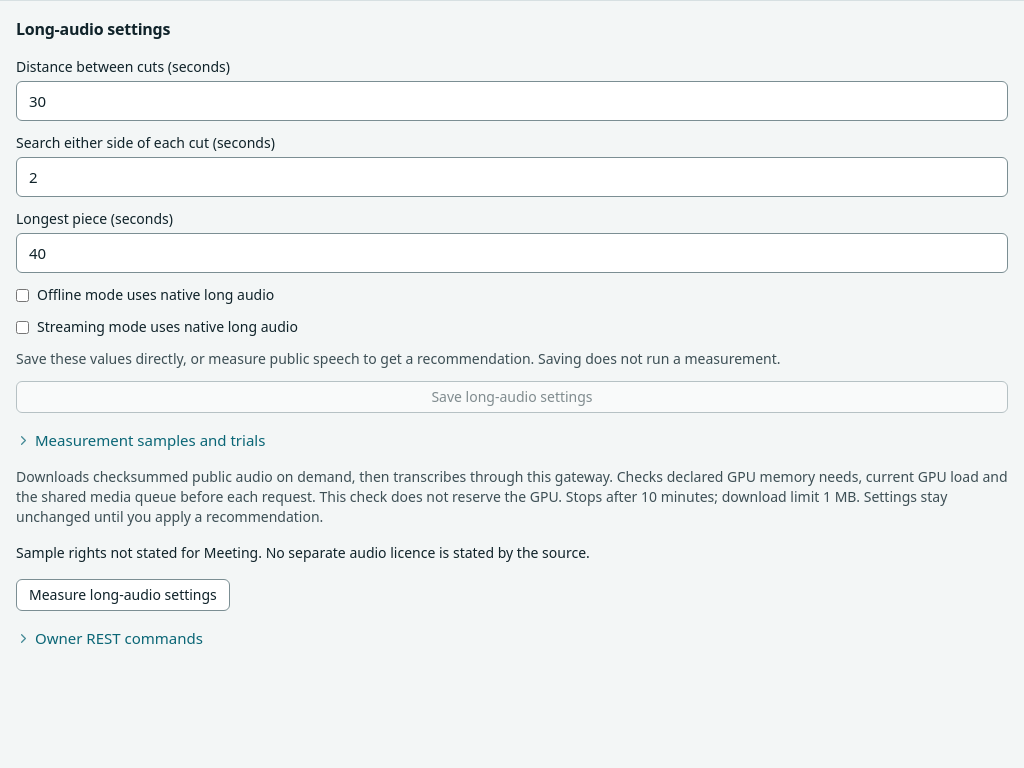
Scenario: Long-audio operator controls › accepts a hard maximum equal to target and validates search width against half the target
Clear the number field labelled "Longest piece (seconds)": (512, 253) [16,233,1008,273]
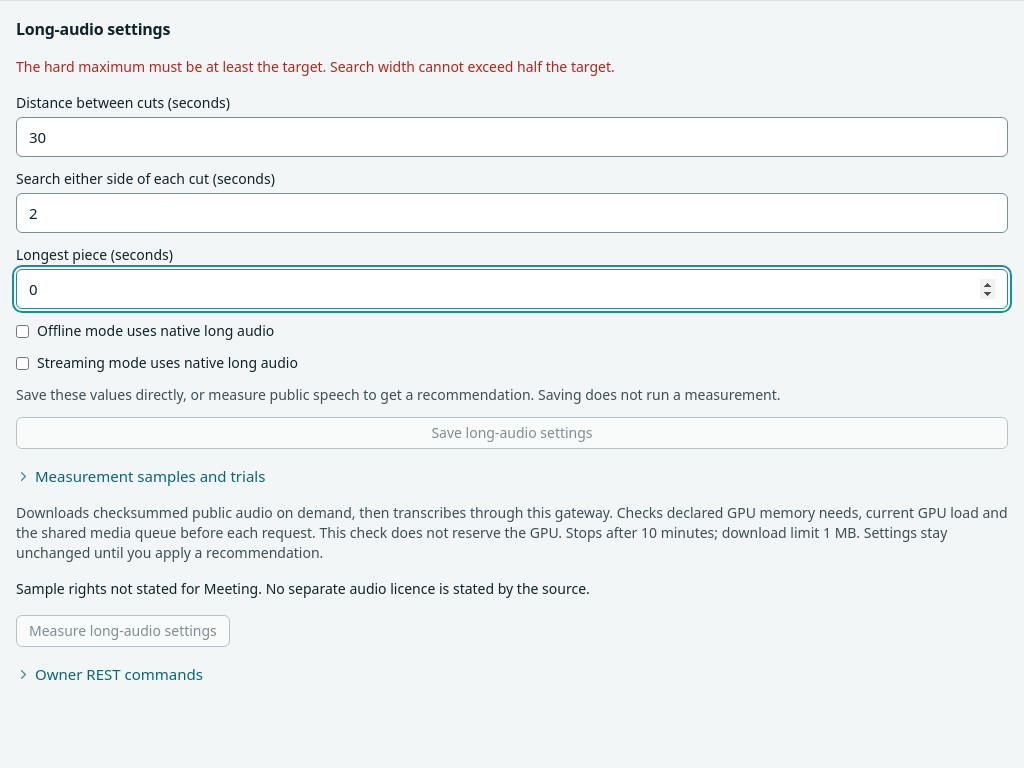
In the number field labelled "Longest piece (seconds)": (512, 289) [16,269,1008,309], type "30"
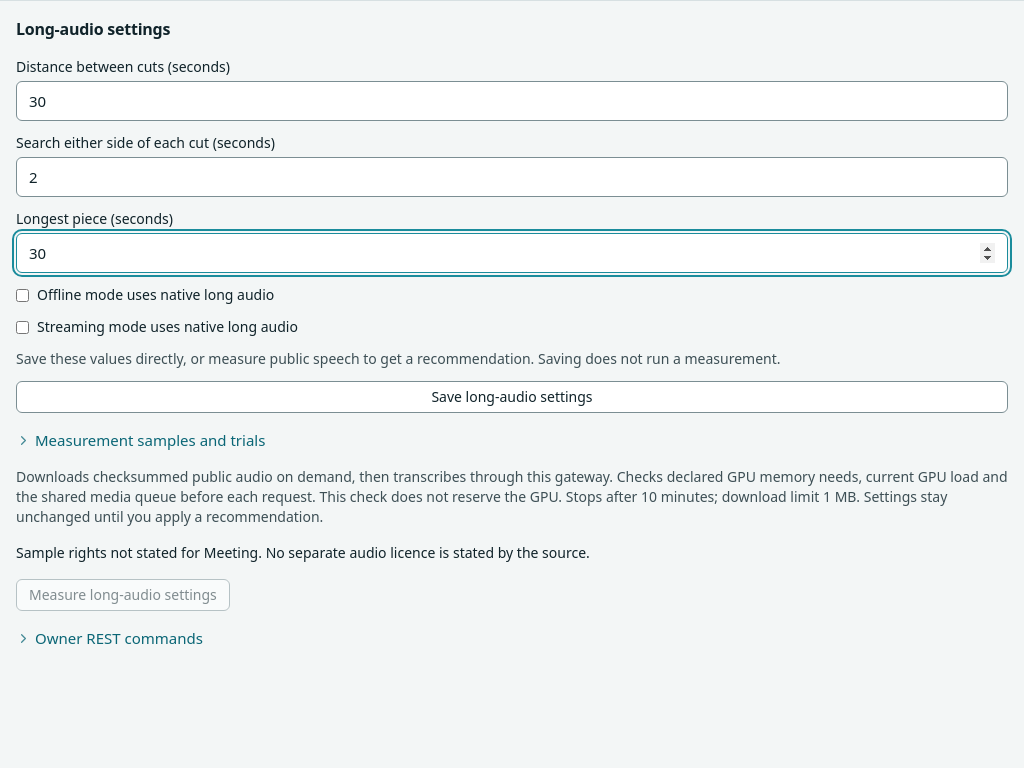
Check: the button "Save long-audio settings" is enabled, box [16,381,1008,413]
Replace the text in the number field labelled "Search either side of each cut (seconds)" with "16": (512, 177) [16,157,1008,197]
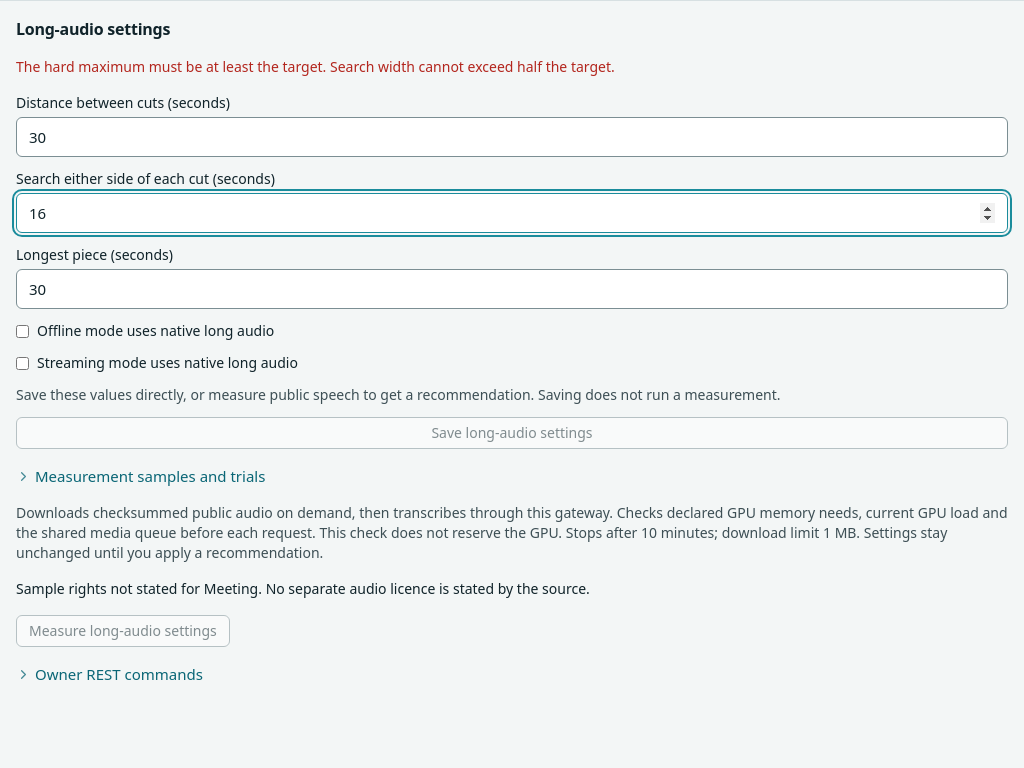
Check: the button "Save long-audio settings" is disabled, box [16,417,1008,449]
